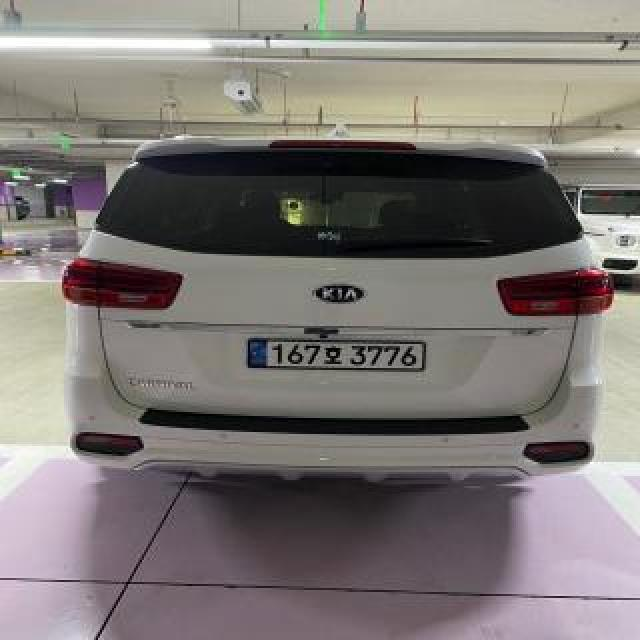car: (59, 129, 620, 498)
illegal_plate: (242, 334, 428, 380)
